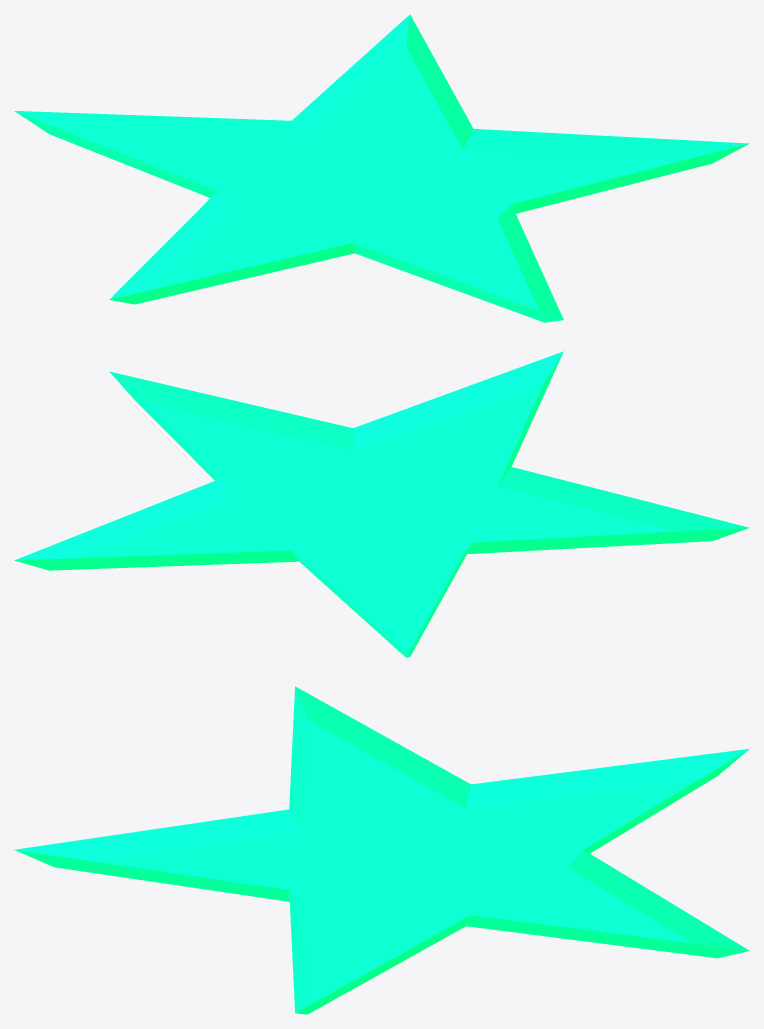
Rendered from star_01.fbx.
3 views of the same model, one above another, from view 1: azimuth 30°, elevation 25°; view 2: azimuth 150°, elevation 25°; view 3: azimuth 270°, elevation 25° (orthographic). The views are drawn at different scales.
Parts seen in each view (by area): view 1: Circle; view 2: Circle; view 3: Circle.
Part boxes in pixels (x1,y1,x2,y2): Circle: [14, 14, 749, 322]; Circle: [14, 351, 749, 657]; Circle: [14, 686, 749, 1014].
Bounding box in the file's own units: 0.0951 × 0.0905 × 0.00237.
